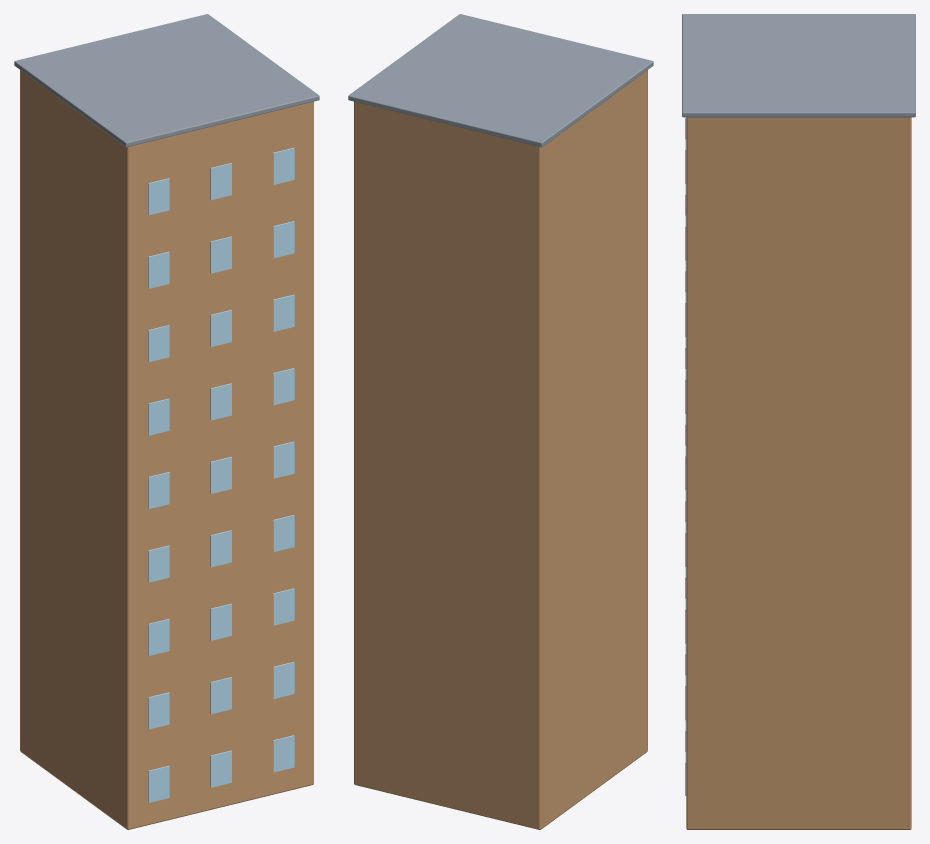
Rendered from Jumping_TallBuilding.fbx.
3 renders of one model, left to right at view 1: azimuth 30°, elevation 25°; view 2: azimuth 150°, elevation 25°; view 3: azimuth 270°, elevation 25°, orthographic. The views are drawn at different scales.
Parts seen in each view (by area): view 1: TallBuilding; view 2: TallBuilding; view 3: TallBuilding.
Boxes of the visible parts, left/top/right/bottom form: TallBuilding: left=14, top=14, right=319, bottom=829; TallBuilding: left=348, top=14, right=653, bottom=829; TallBuilding: left=682, top=14, right=915, bottom=829.
Bounding box in the file's own units: 8.3 × 28.2 × 8.3.
